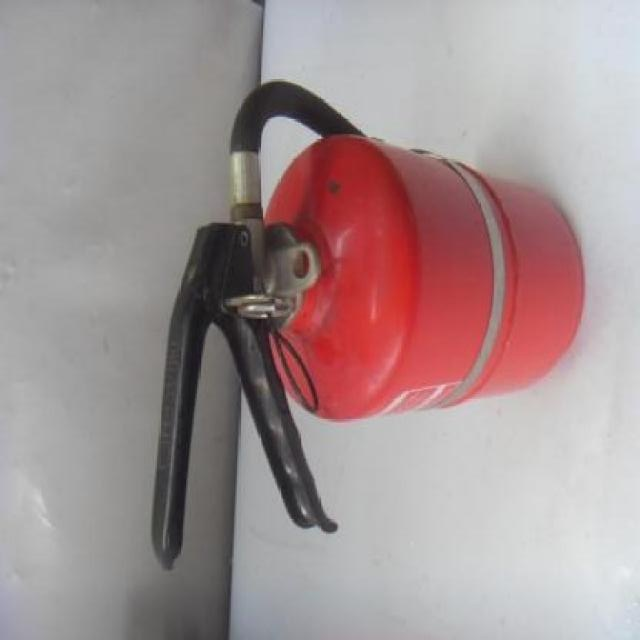fire extinguisher: (151, 80, 586, 571)
